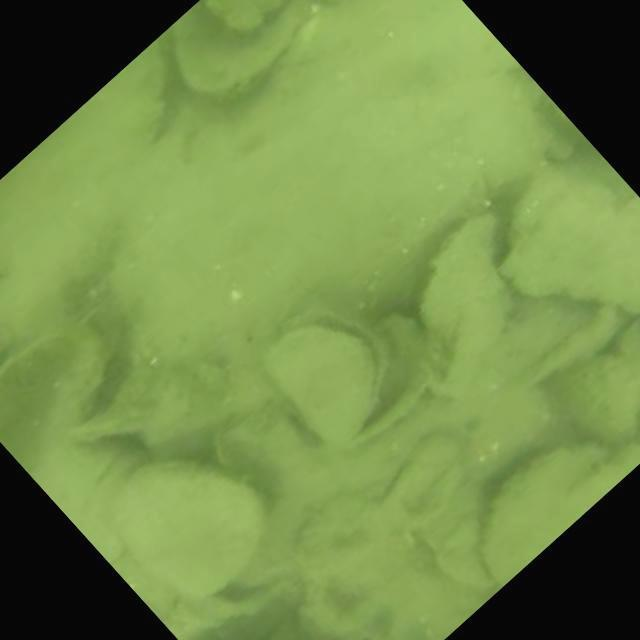Oyster-Closed: (480, 443, 639, 589), (107, 461, 264, 597), (503, 169, 639, 312), (417, 469, 491, 587), (558, 356, 639, 440), (97, 56, 163, 123), (209, 0, 288, 38)
Oyster-Open: (419, 216, 508, 392), (256, 311, 384, 428), (55, 321, 139, 433)
